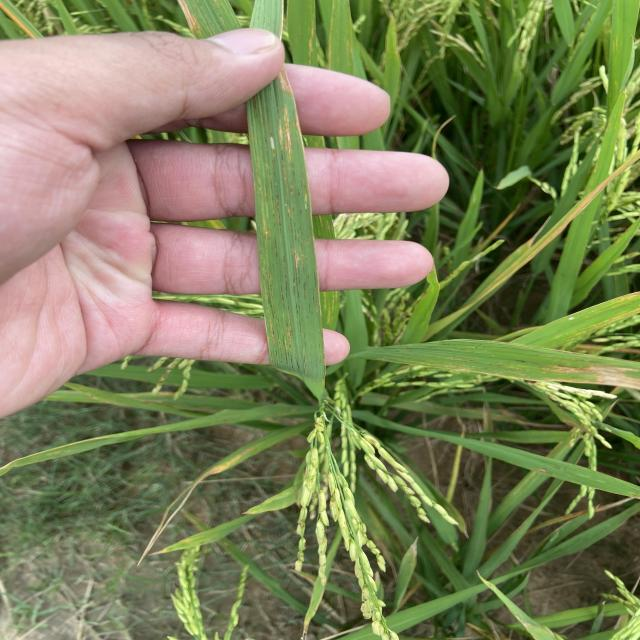Dom soc vi khuan: (278, 121, 291, 219), (255, 166, 266, 241), (263, 266, 276, 320), (283, 106, 292, 155), (293, 248, 300, 302), (275, 195, 282, 233), (282, 329, 289, 366), (282, 256, 288, 299), (269, 132, 276, 163), (268, 318, 275, 345), (260, 251, 265, 280), (286, 322, 291, 351), (303, 183, 308, 212), (301, 243, 305, 274), (272, 197, 276, 227), (274, 236, 278, 257)
